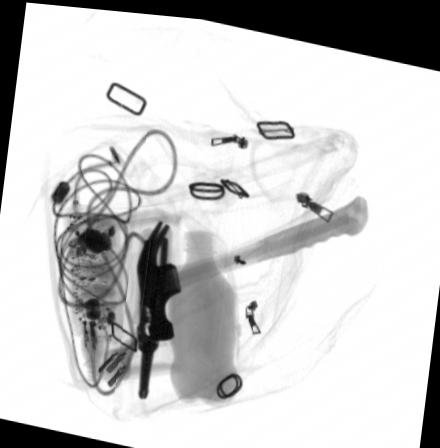Hammer: (136, 188, 368, 339)
Pliers: (135, 235, 166, 396)
